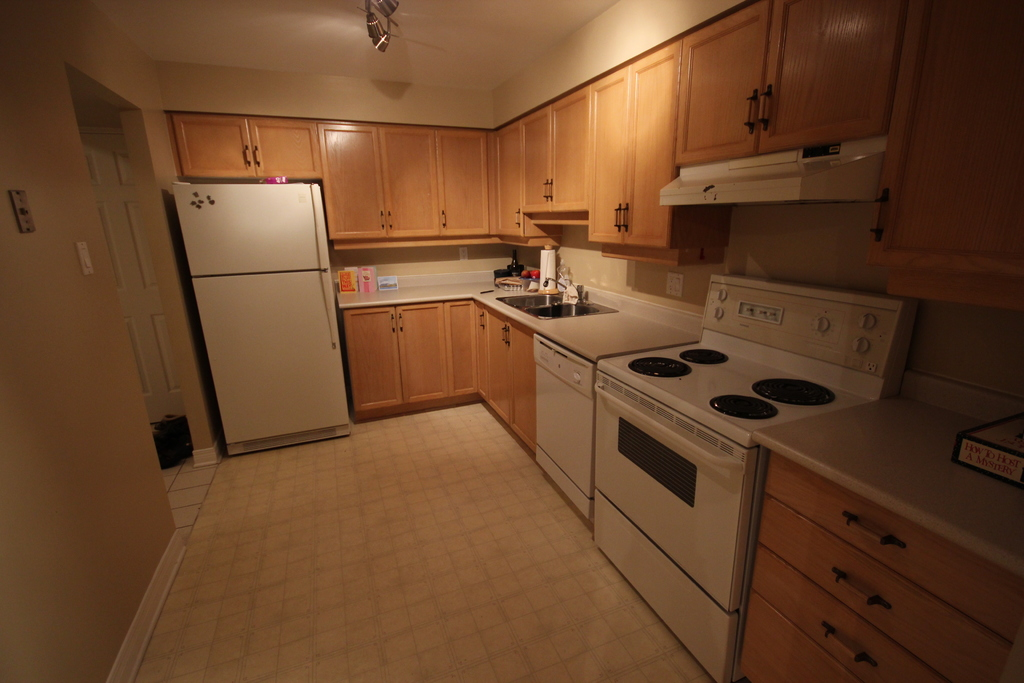cabinet door: (908, 18, 1024, 264), (776, 17, 879, 136), (316, 123, 383, 235), (688, 39, 752, 151), (376, 129, 437, 231), (629, 76, 666, 244), (590, 86, 629, 238), (435, 137, 489, 234), (394, 317, 449, 400), (347, 314, 398, 397), (253, 116, 323, 175), (179, 120, 247, 175), (552, 111, 588, 202), (518, 127, 554, 202), (468, 307, 492, 392), (490, 318, 510, 408)
door: (88, 131, 171, 440)
handle: (822, 622, 880, 673), (832, 563, 891, 609), (842, 512, 908, 550), (304, 188, 331, 269), (317, 275, 342, 348), (738, 85, 755, 131), (754, 86, 771, 129), (873, 184, 886, 237), (620, 201, 631, 231), (238, 148, 252, 167), (614, 203, 622, 231), (253, 147, 261, 167)
refrigerator door: (194, 284, 341, 428), (174, 188, 328, 268)
